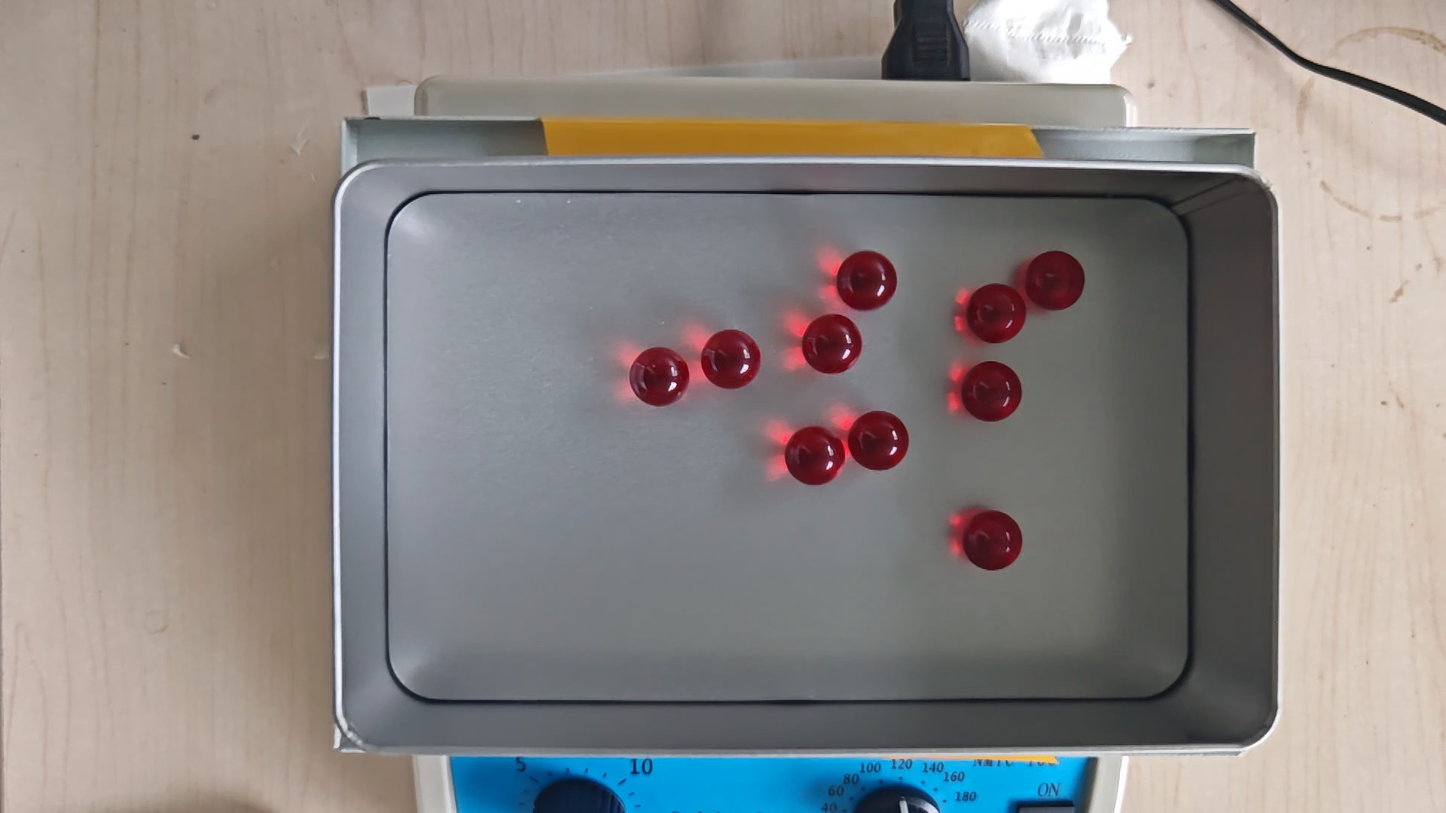ball: (849, 410, 909, 473), (962, 361, 1022, 423), (786, 425, 846, 487), (963, 509, 1023, 571), (1026, 250, 1086, 311), (837, 250, 897, 311), (803, 313, 862, 375), (630, 346, 689, 407), (702, 329, 761, 389), (968, 283, 1026, 344)
container: (385, 192, 1190, 702)
